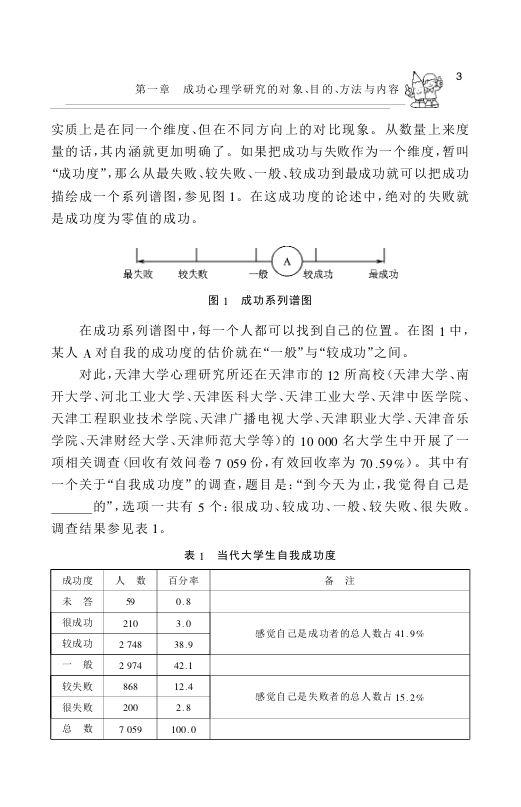table: (50, 569, 471, 740)
